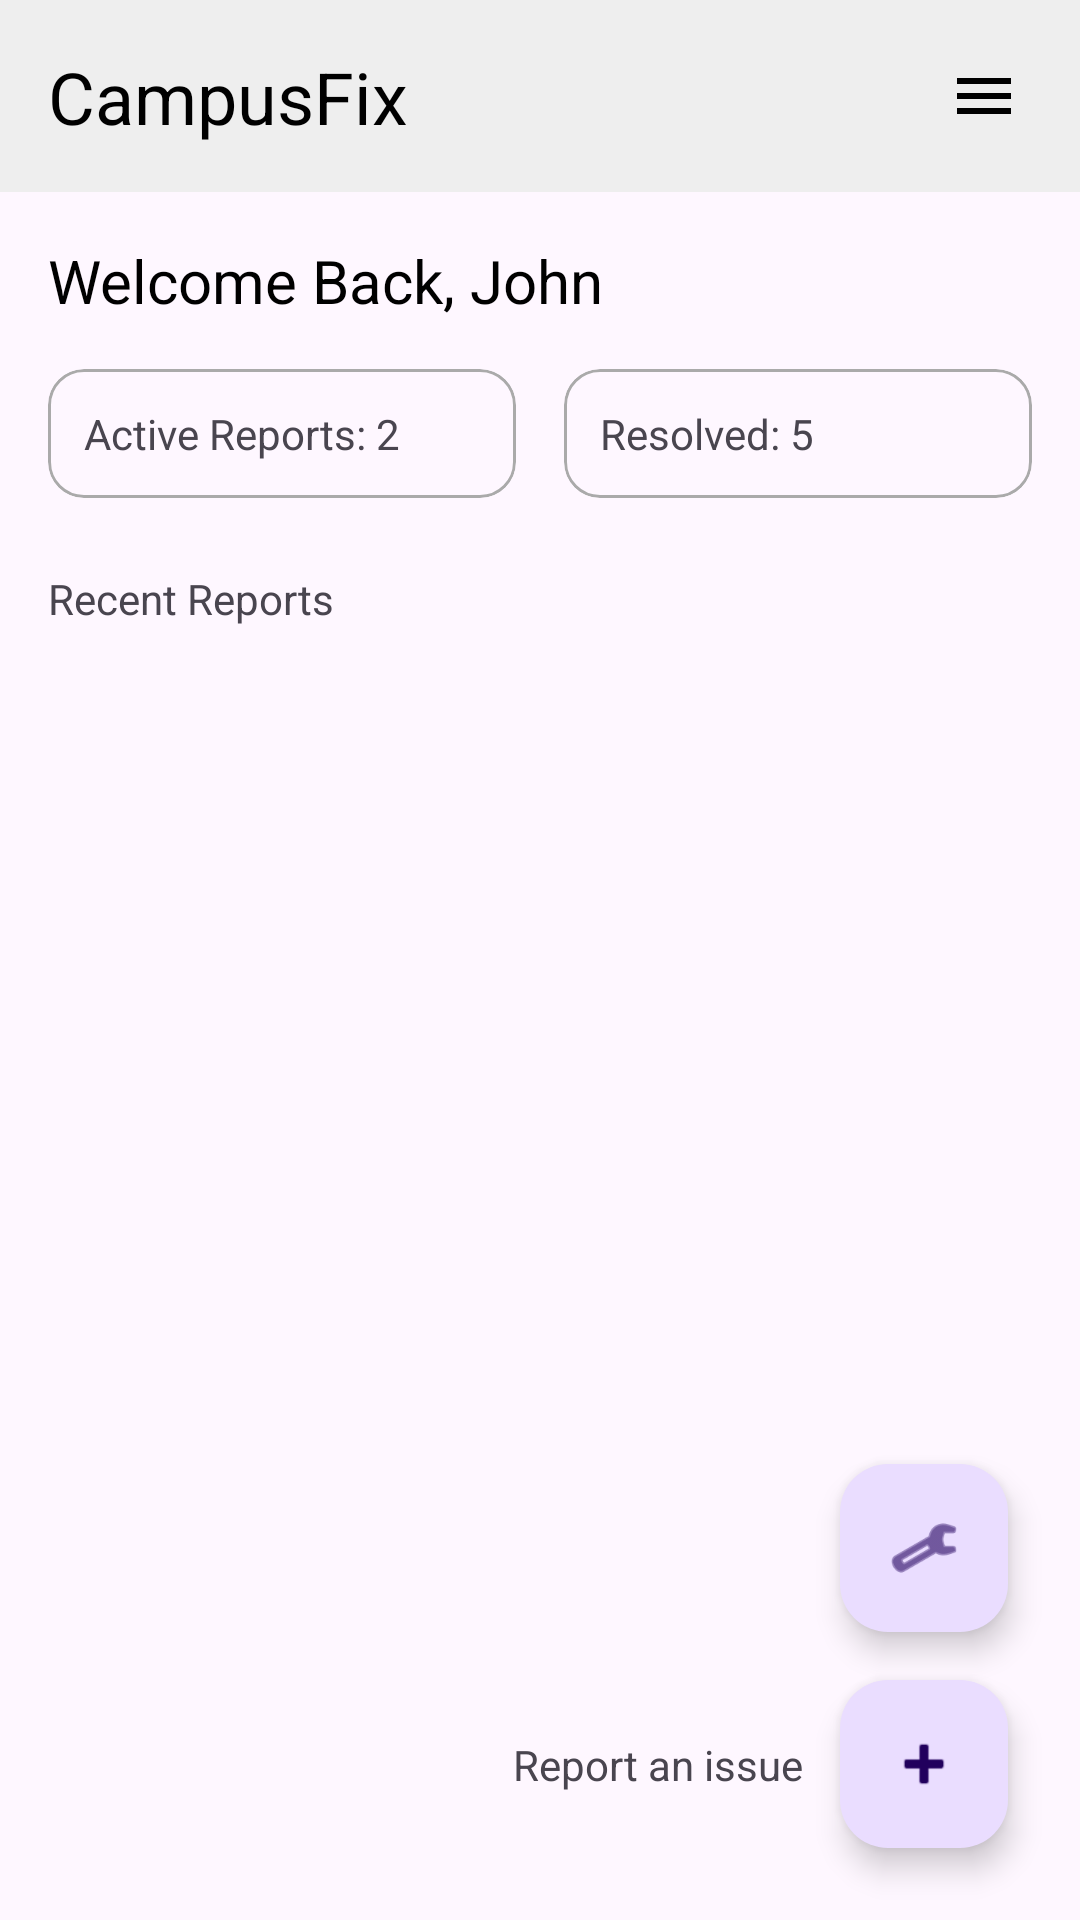

Screen size 1080×1920. Icon name, then its center in pixels as (x,y):
Menu: (984,96)
